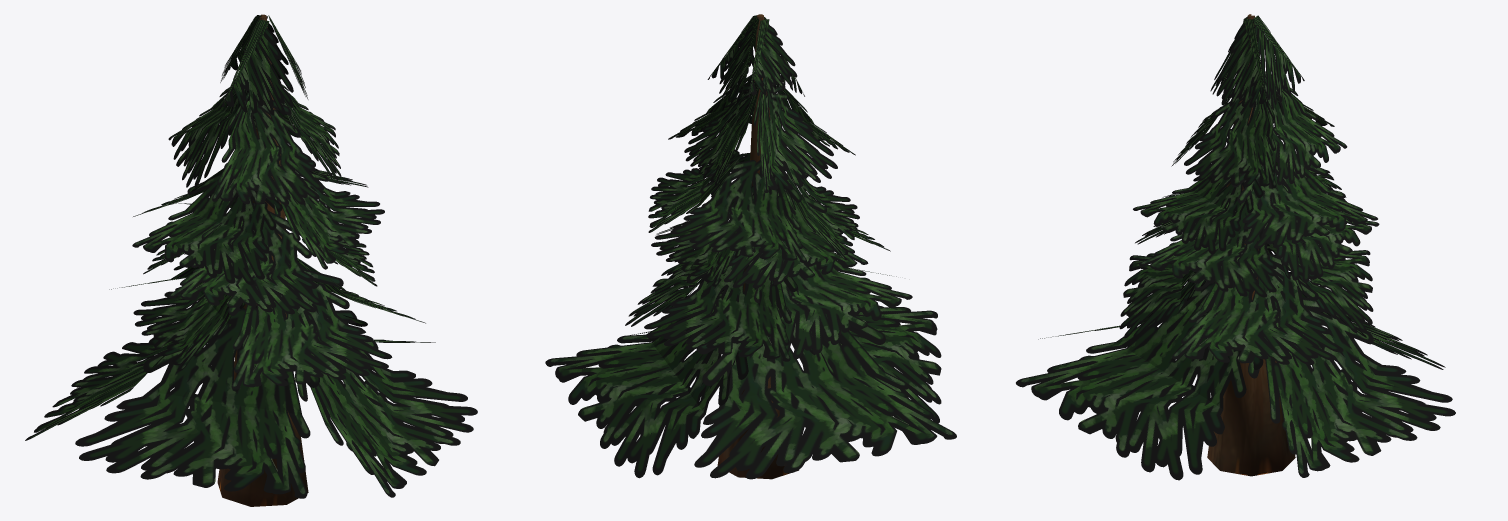
Rendered from pine1.fbx.
The picture shows the model from 3 angles, left to right: view 1: azimuth 30°, elevation 25°; view 2: azimuth 150°, elevation 25°; view 3: azimuth 270°, elevation 25°; orthographic projection. The views are drawn at different scales.
Parts seen in each view (by area): view 1: pine; view 2: pine; view 3: pine.
Part boxes in pixels (box(x1,y1,x2,y2)): pine: box(25, 14, 477, 506); pine: box(545, 14, 956, 479); pine: box(1016, 14, 1455, 480).
Size of the model in its own units: 1107 by 1104 by 1113.
